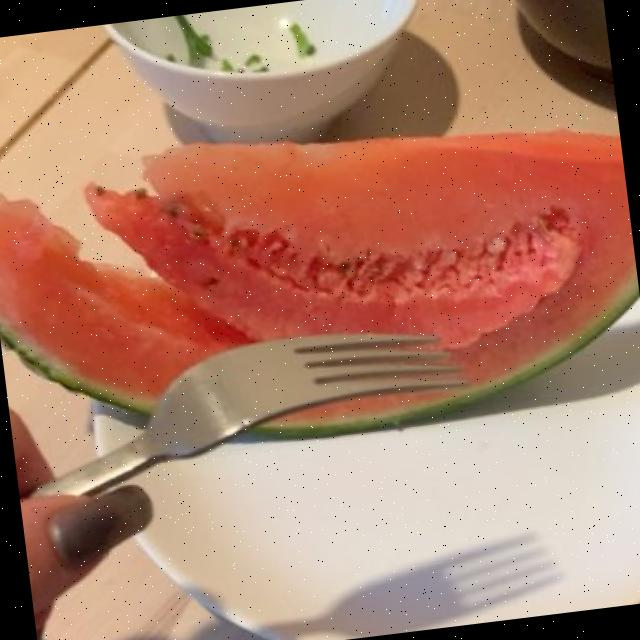watermelon-fresh: (0, 136, 638, 397)
